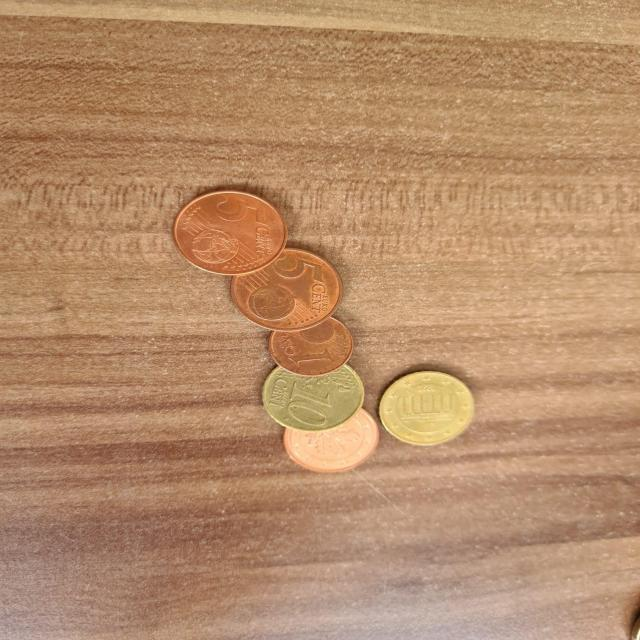10c: (374, 362, 484, 455), (258, 352, 372, 434)
1c: (256, 307, 361, 380)
5c: (165, 182, 290, 280), (223, 244, 349, 338), (274, 397, 390, 480)
